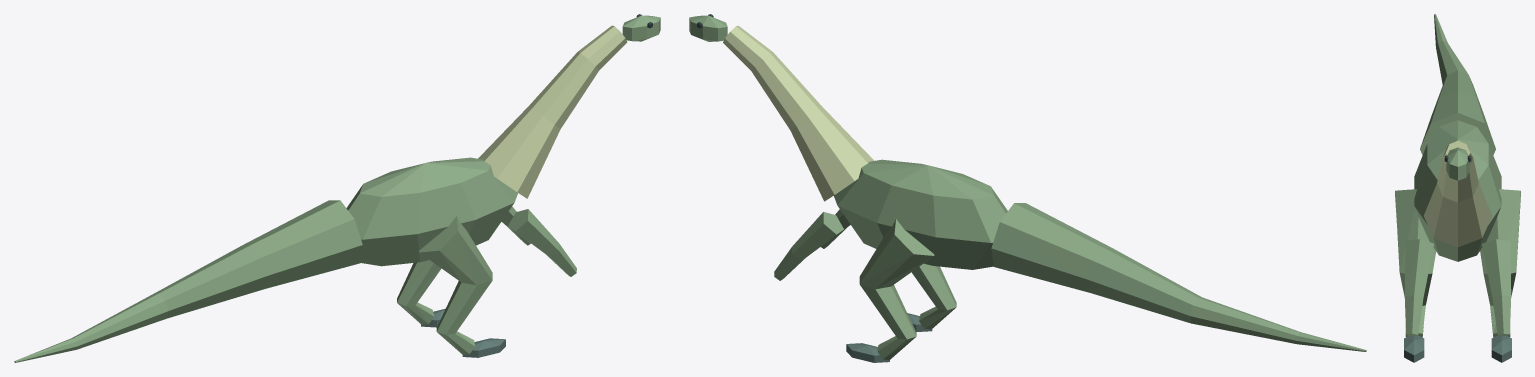
File: massospondylus-golden-gate-150174.0e83b27b09e5.glb
The picture shows the model from 3 angles, left to right: view 1: azimuth 30°, elevation 25°; view 2: azimuth 150°, elevation 25°; view 3: azimuth 270°, elevation 25°; orthographic projection. The views are drawn at different scales.
Parts seen in each view (by area): view 1: massospondylus-golden-gate-150174; view 2: massospondylus-golden-gate-150174; view 3: massospondylus-golden-gate-150174.
Boxes of the visible parts, left/top/right/bottom form: massospondylus-golden-gate-150174: left=14, top=14, right=660, bottom=362; massospondylus-golden-gate-150174: left=689, top=14, right=1366, bottom=362; massospondylus-golden-gate-150174: left=1395, top=14, right=1520, bottom=362.
Size of the model in its own units: 1 by 0.4093 by 0.157.
